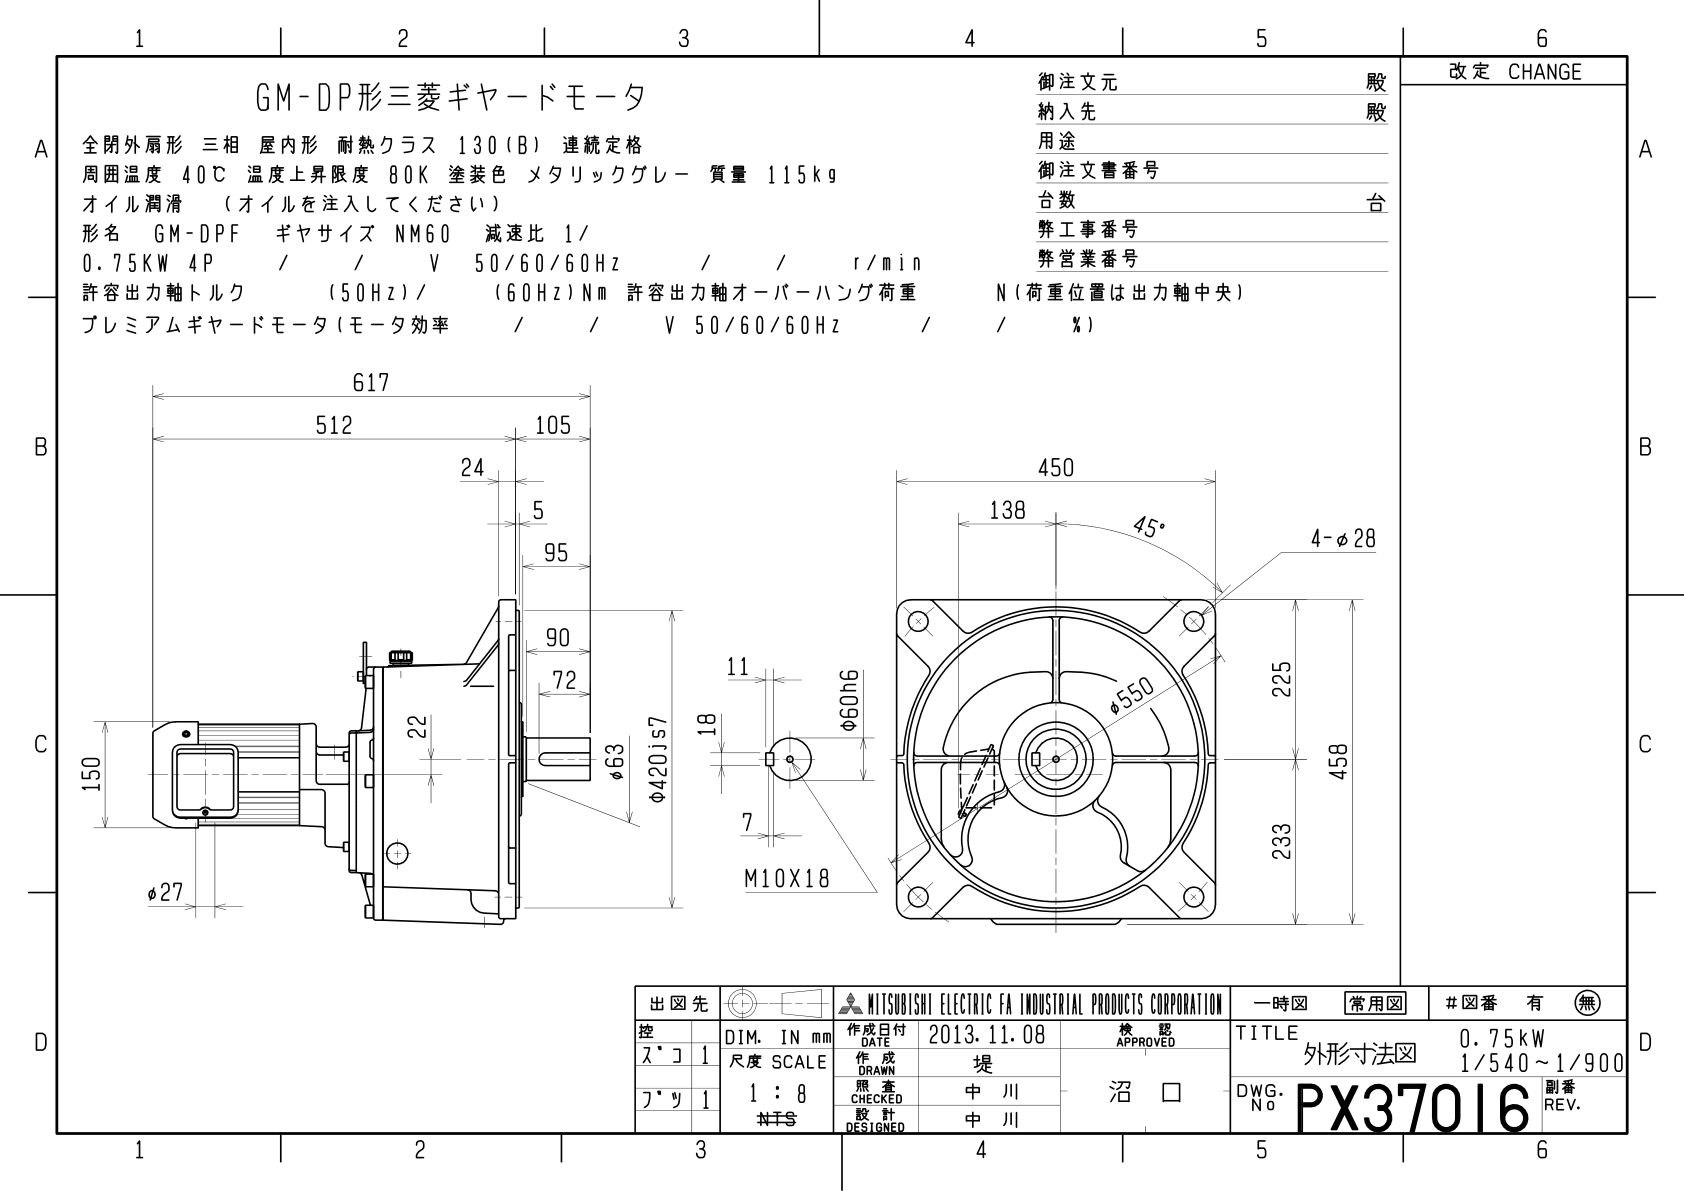GM_DP_屋内_三相_フランジ: (15, 8, 1684, 1183)
